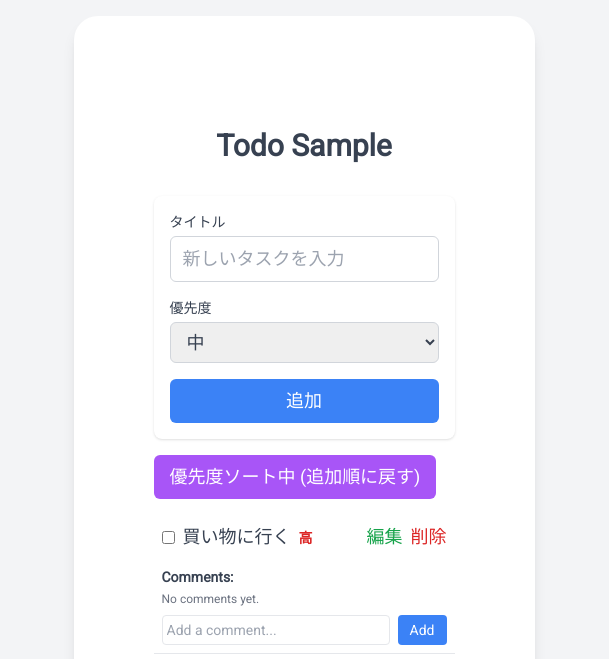
it: App › Todoアイテムを編集できる
Click the button "編集" in the row of "買い物に行く": [384, 537] box 366,523 -> 402,551
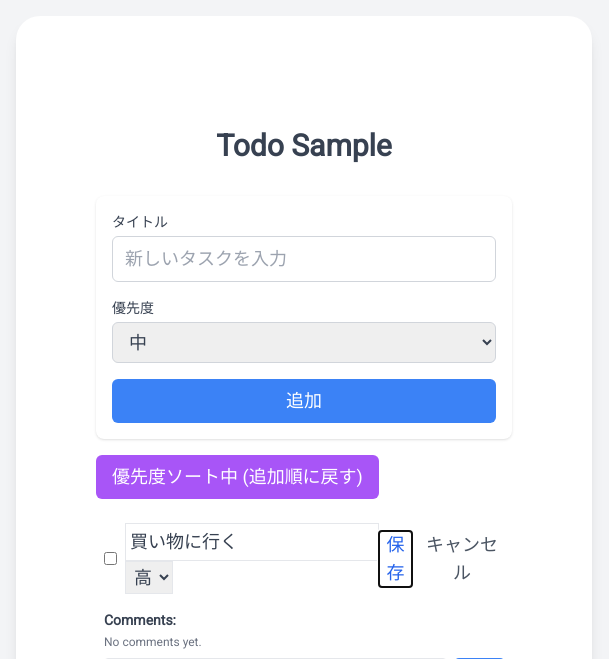
タイトル入力フィールドを取得して編集
Replace the text in the field showing "買い物に行く" with "新しい買い物リスト": [252, 542] box 125,523 -> 379,561
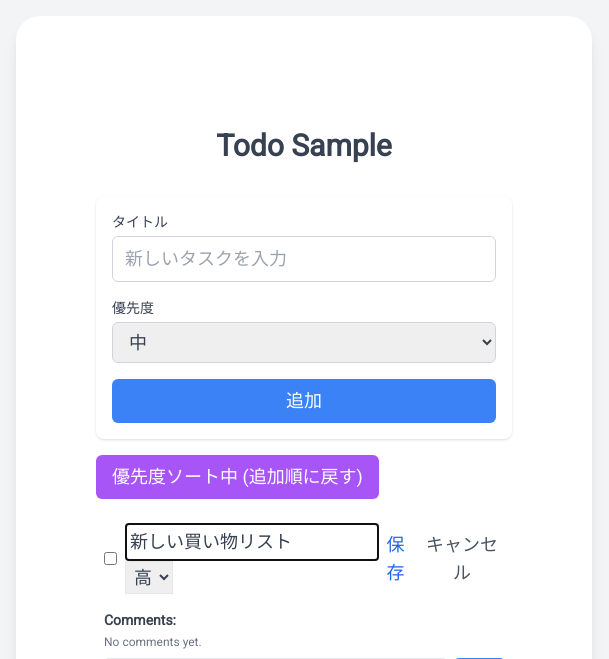
優先度を変更（編集モードのselect要素を取得）
Select "中" in the 2nd dropdown: [149, 578] box 125,561 -> 173,594
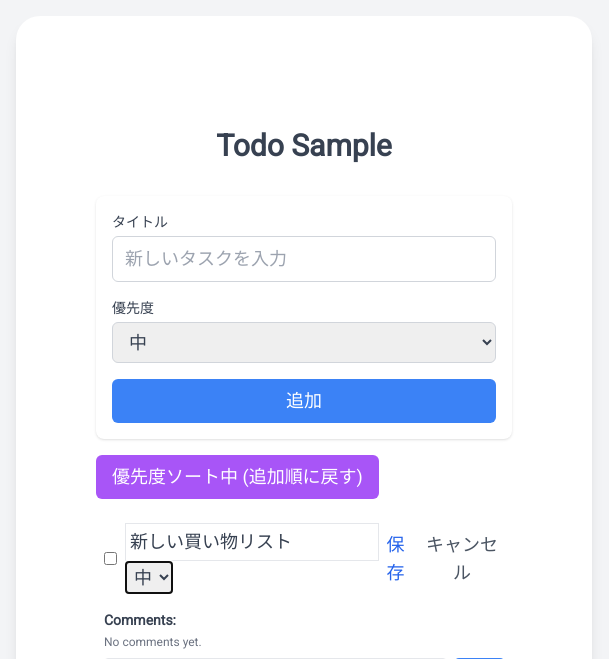
保存ボタンをクリック
Click the button "保存": [395, 558] box 379,530 -> 412,586
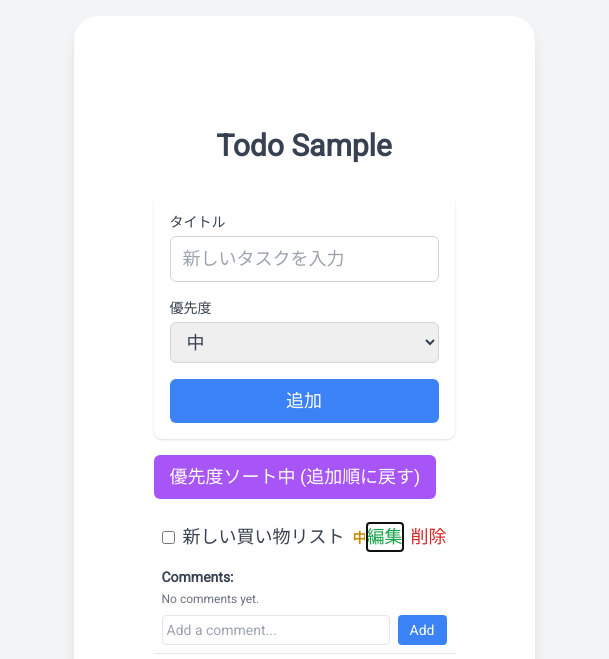
Now the text "新しい買い物リスト" is shown, box 182,526 -> 344,547
